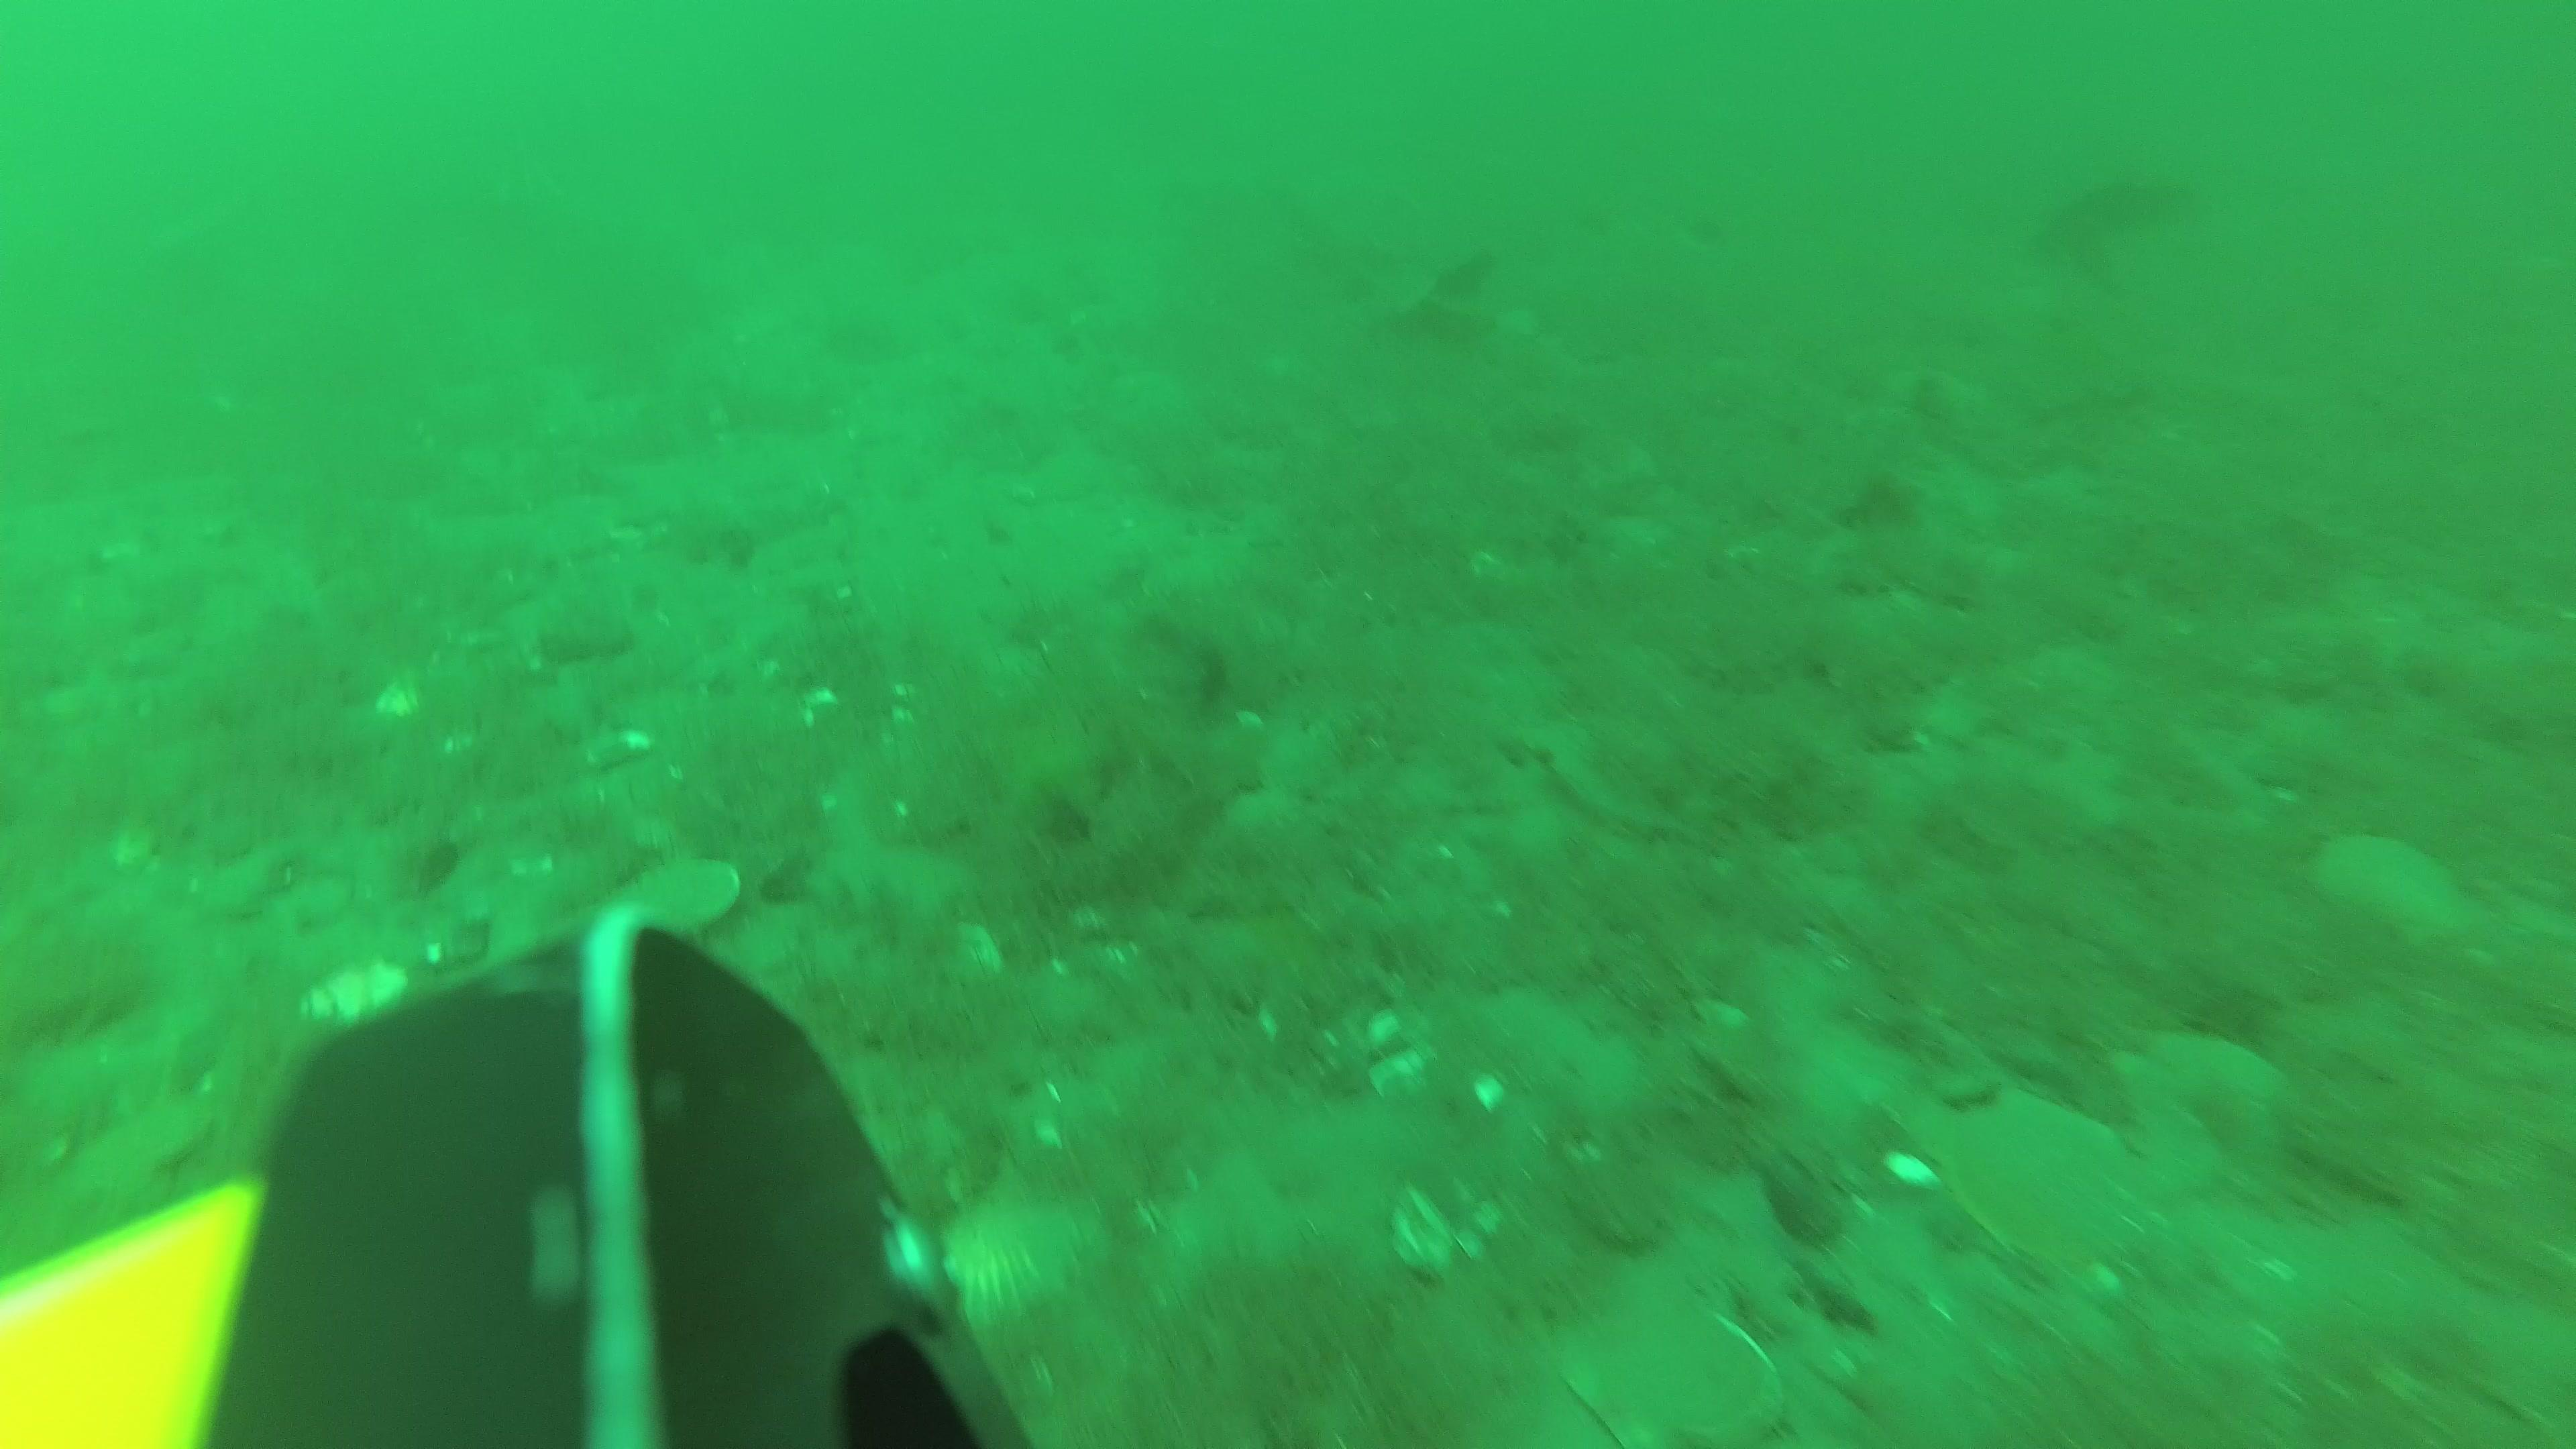scallop: (1571, 1306, 1785, 1449), (1957, 1090, 2125, 1269), (931, 1205, 1079, 1332), (2309, 828, 2461, 947), (605, 853, 734, 962)
